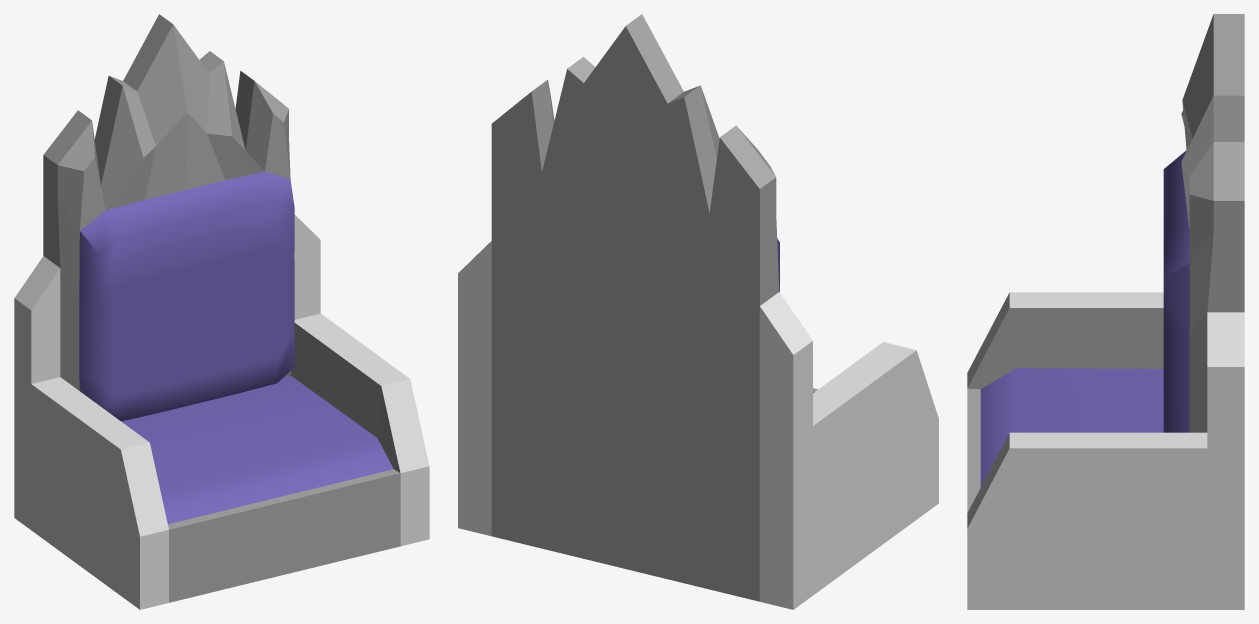
The model's file is throne_environment_002.fbx.
3 renders of one model, left to right at view 1: azimuth 30°, elevation 25°; view 2: azimuth 150°, elevation 25°; view 3: azimuth 270°, elevation 25°, orthographic. The views are drawn at different scales.
Visible parts, largest first — view 1: throne1; view 2: throne1; view 3: throne1.
Boxes of the visible parts, x1=… form: throne1: x1=14, y1=14, x2=429, y2=609; throne1: x1=458, y1=14, x2=938, y2=609; throne1: x1=967, y1=14, x2=1244, y2=609.
Bounding box in the file's own units: 3.98 × 6.15 × 2.99.
